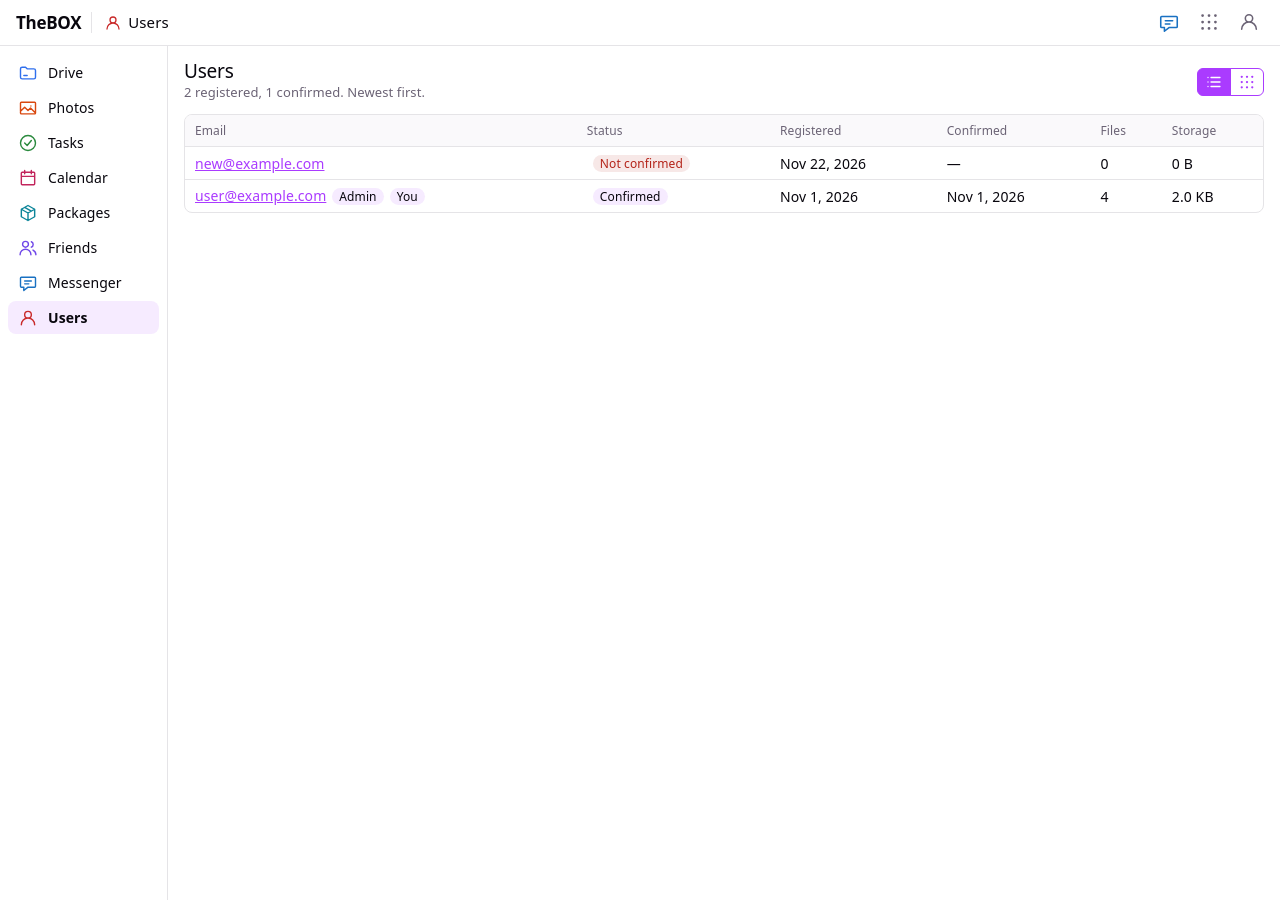
Test: Users › shows an administrator everyone who registered
expect the text "2 registered, 1 confirmed. Newest first." is shown: met, box left=184, top=82, right=425, bottom=103
expect the text "Not confirmed" is shown: met, box left=593, top=155, right=690, bottom=172
Also as cards
Click the button named "Grid view".
click(1247, 82)  # box left=1230, top=68, right=1264, bottom=96
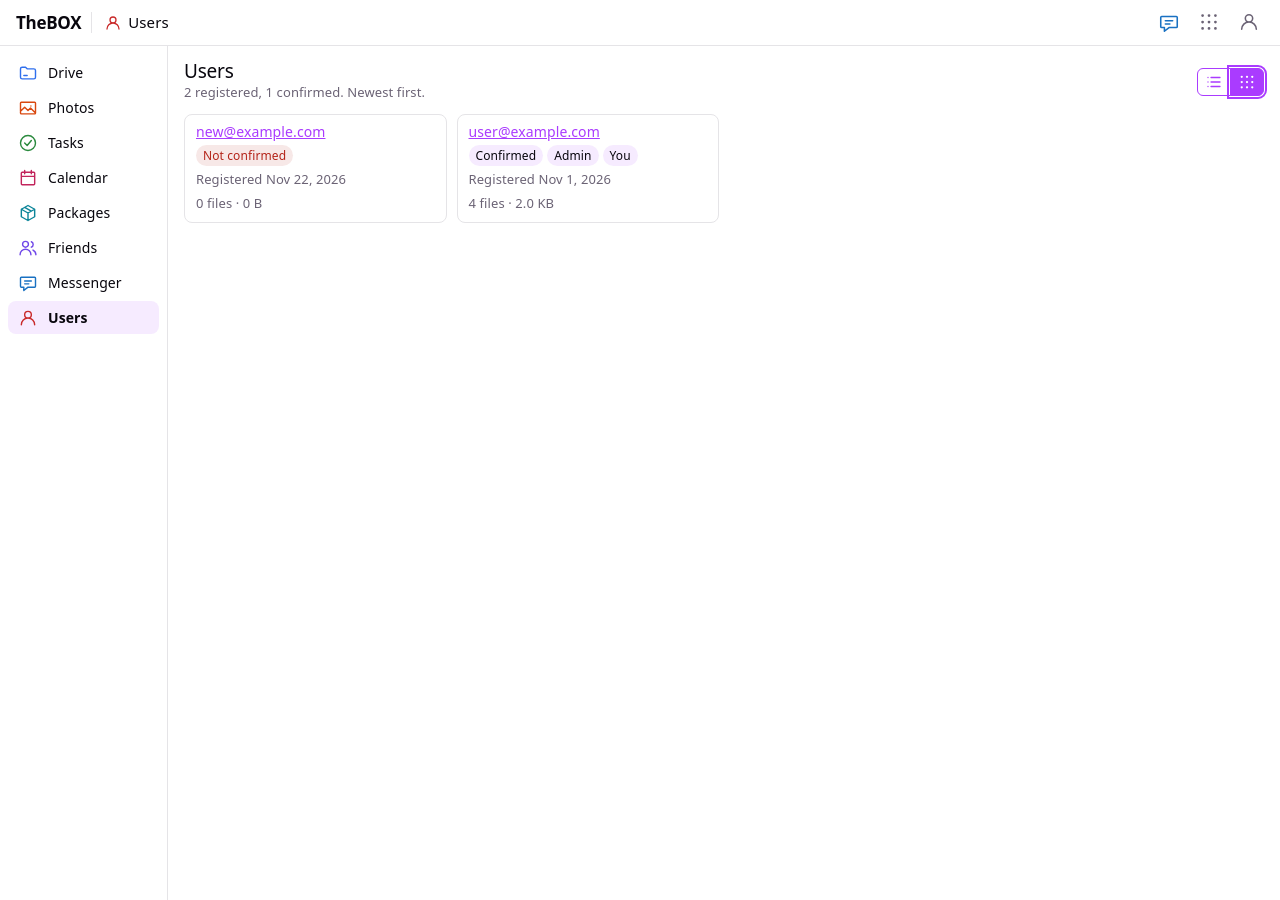
expect the text "4 files · 2.0 KB" is shown: met, box left=468, top=194, right=554, bottom=212
